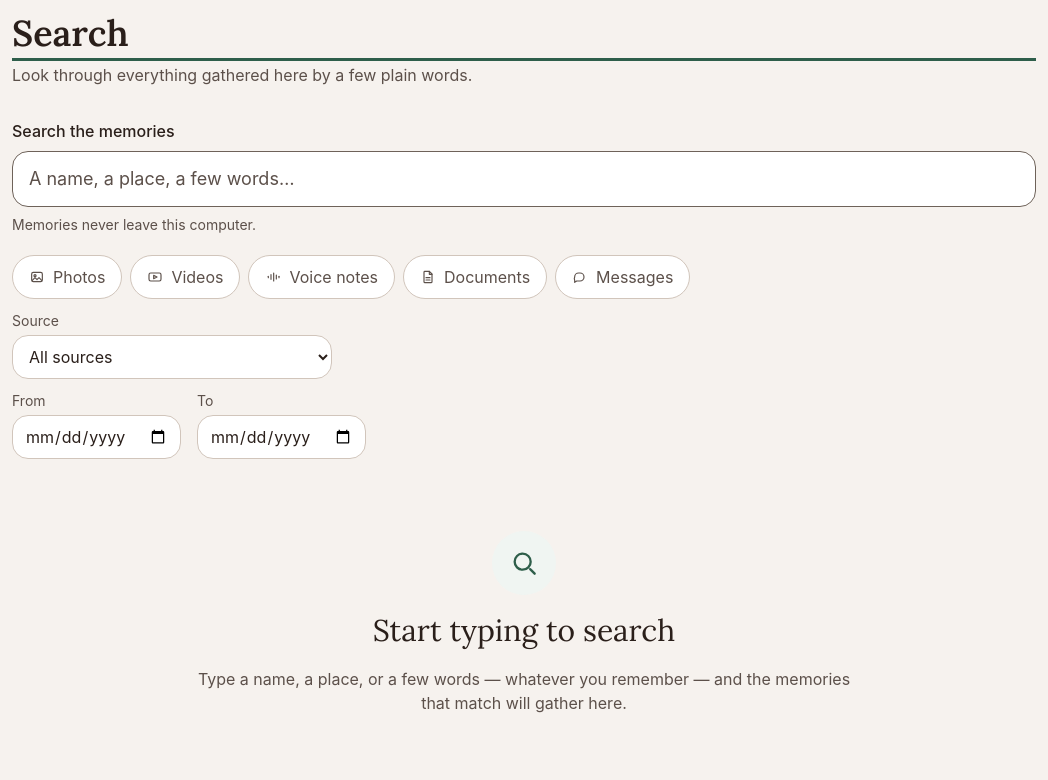
Test: Search — the search box and querying › announces the number of results through a polite live region
This screenshot has width=1048, height=780.
Step 1. Type "thing" into the search field → x=524, y=179, box x1=12 y1=151 x2=1036 y2=207
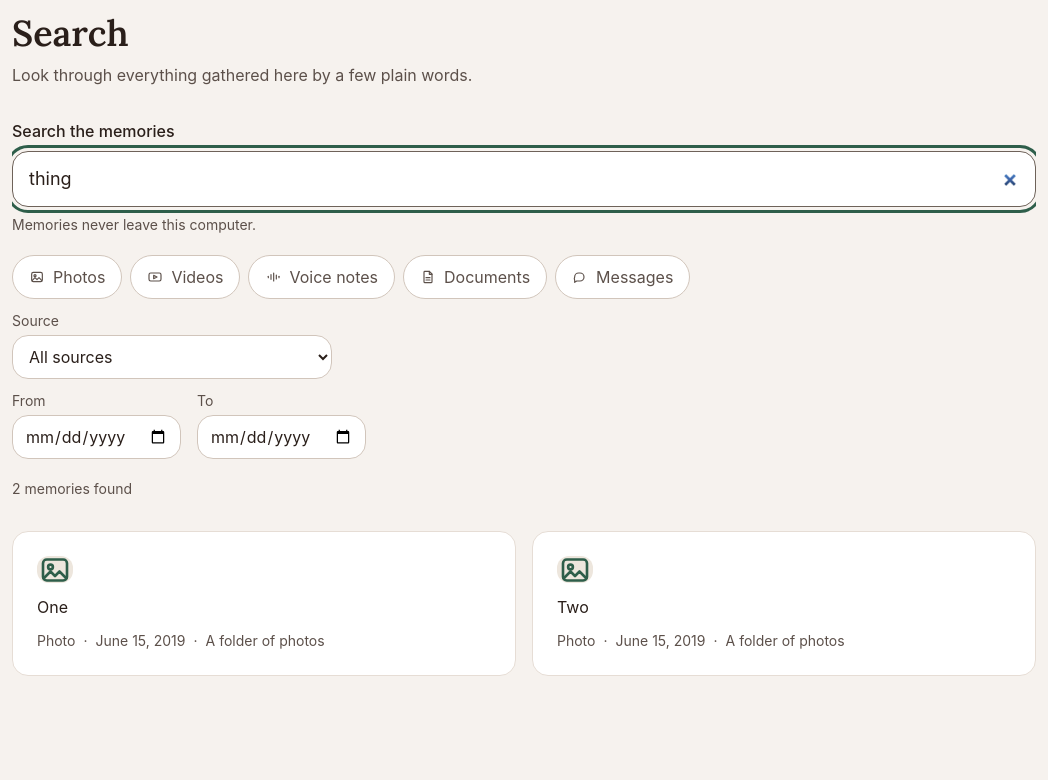
Now the message shows "2 memories", box x1=12 y1=480 x2=132 y2=497
